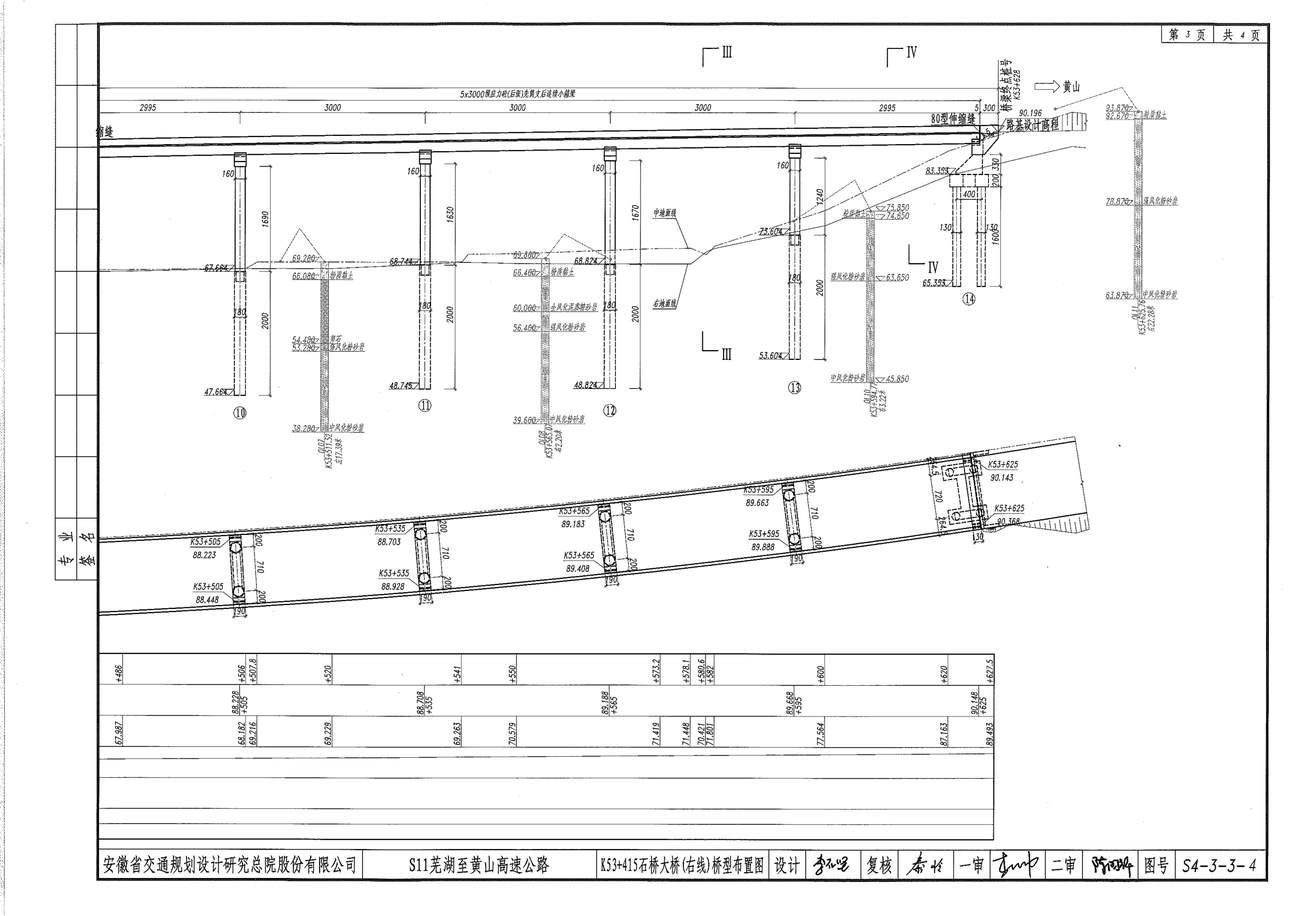A: (85, 36, 1216, 426)
